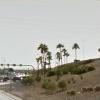Palm tree: (31, 35, 83, 66)
